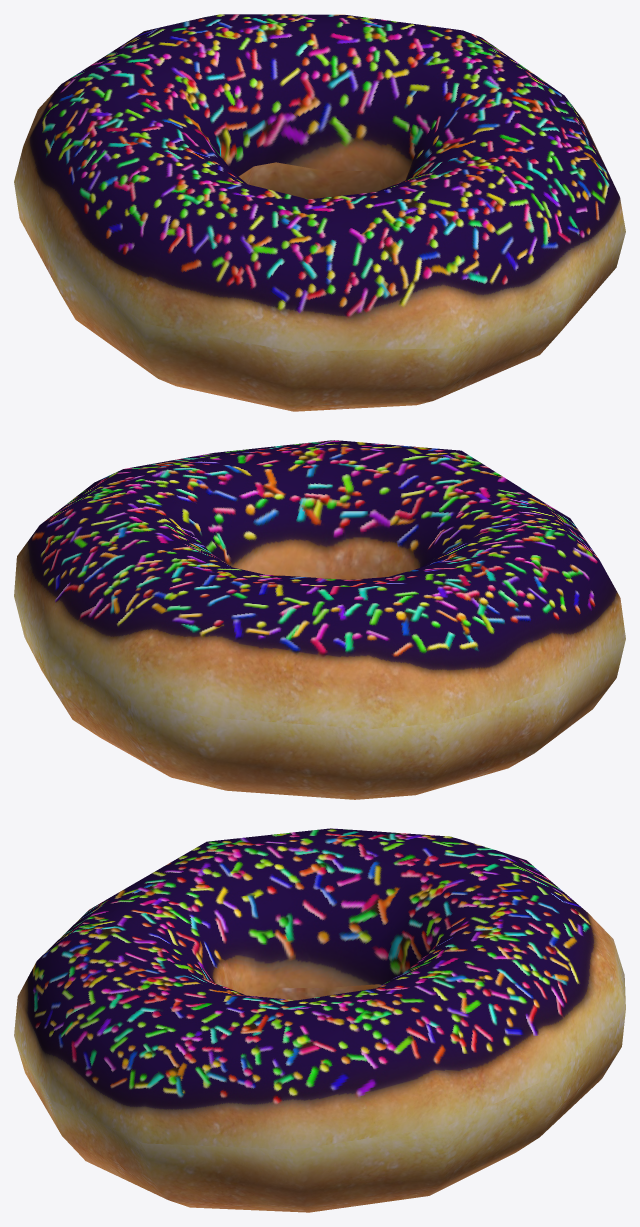
Rendered from Donut2LP.obj.
The picture shows the model from 3 angles, top to bottom: view 1: azimuth 30°, elevation 25°; view 2: azimuth 150°, elevation 25°; view 3: azimuth 270°, elevation 25°; orthographic projection.
Visible parts, largest first — view 1: donut070; view 2: donut070; view 3: donut070.
Boxes of the visible parts, <box> form: donut070: <box>14,14,625,411</box>; donut070: <box>14,440,625,799</box>; donut070: <box>14,828,625,1212</box>.
Bounding box in the file's own units: 9.42 × 3.94 × 9.78.
1 material, 1 textured.
